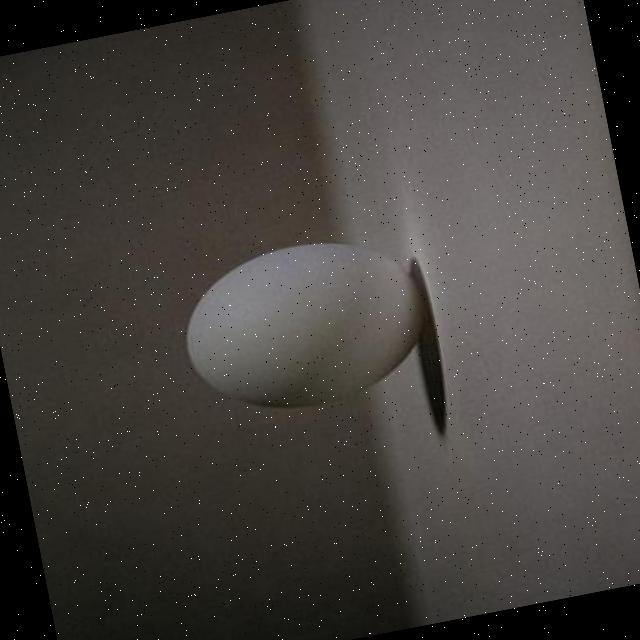ping-pong-ball: (166, 222, 445, 430)
